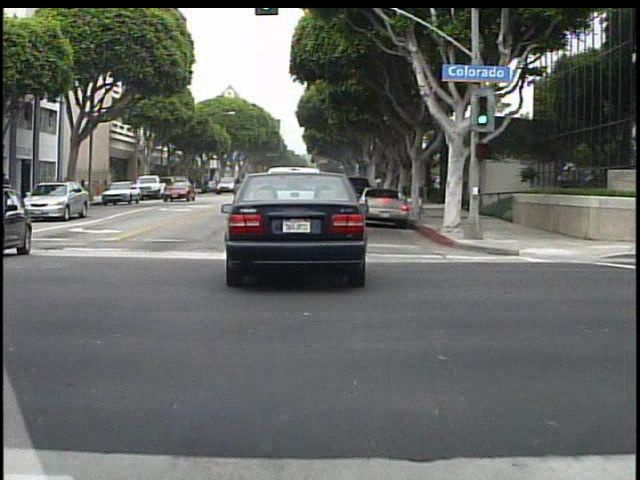person: (3, 169, 17, 199)
